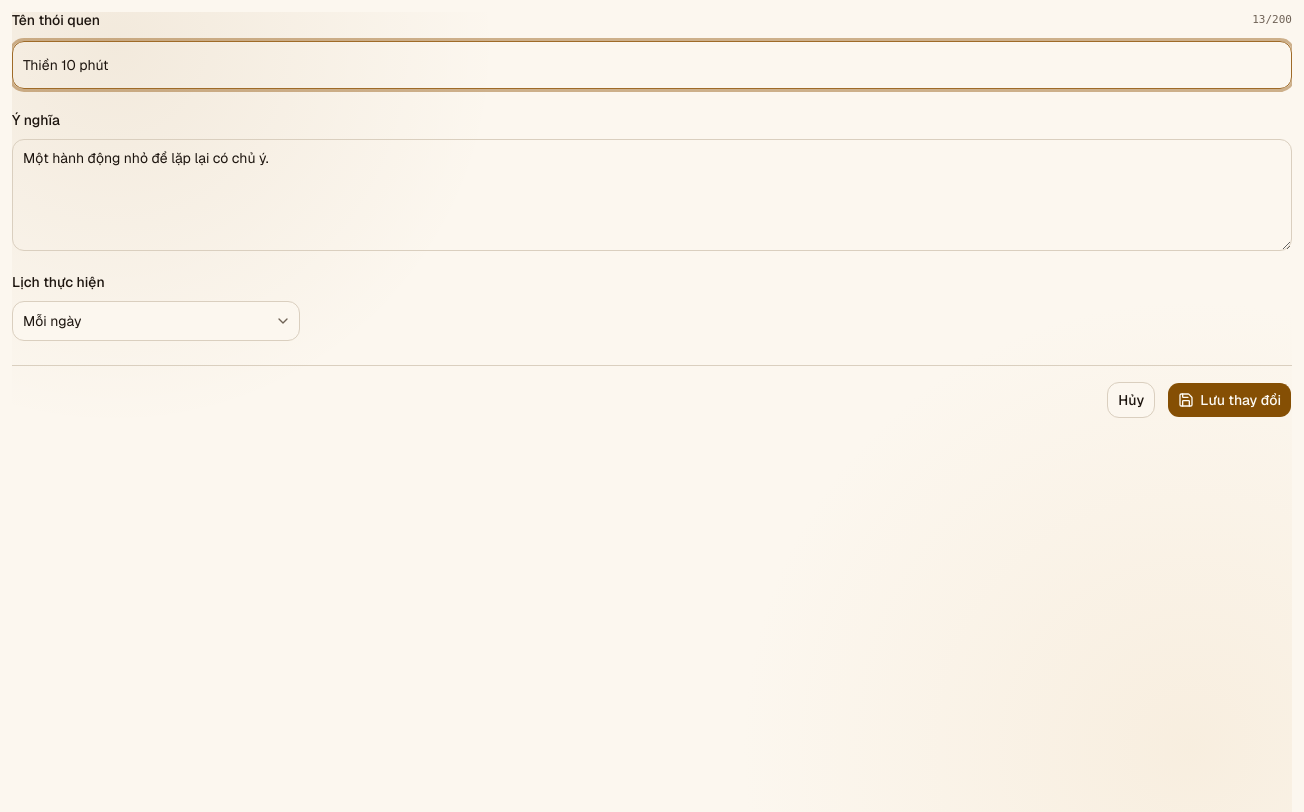
HabitEditor › keeps the draft on screen when the habit was archived elsewhere
Replace the text in the field labelled "Tên thói quen" with "Bản đang viết dở": [652, 64] box 12,40 -> 1292,88
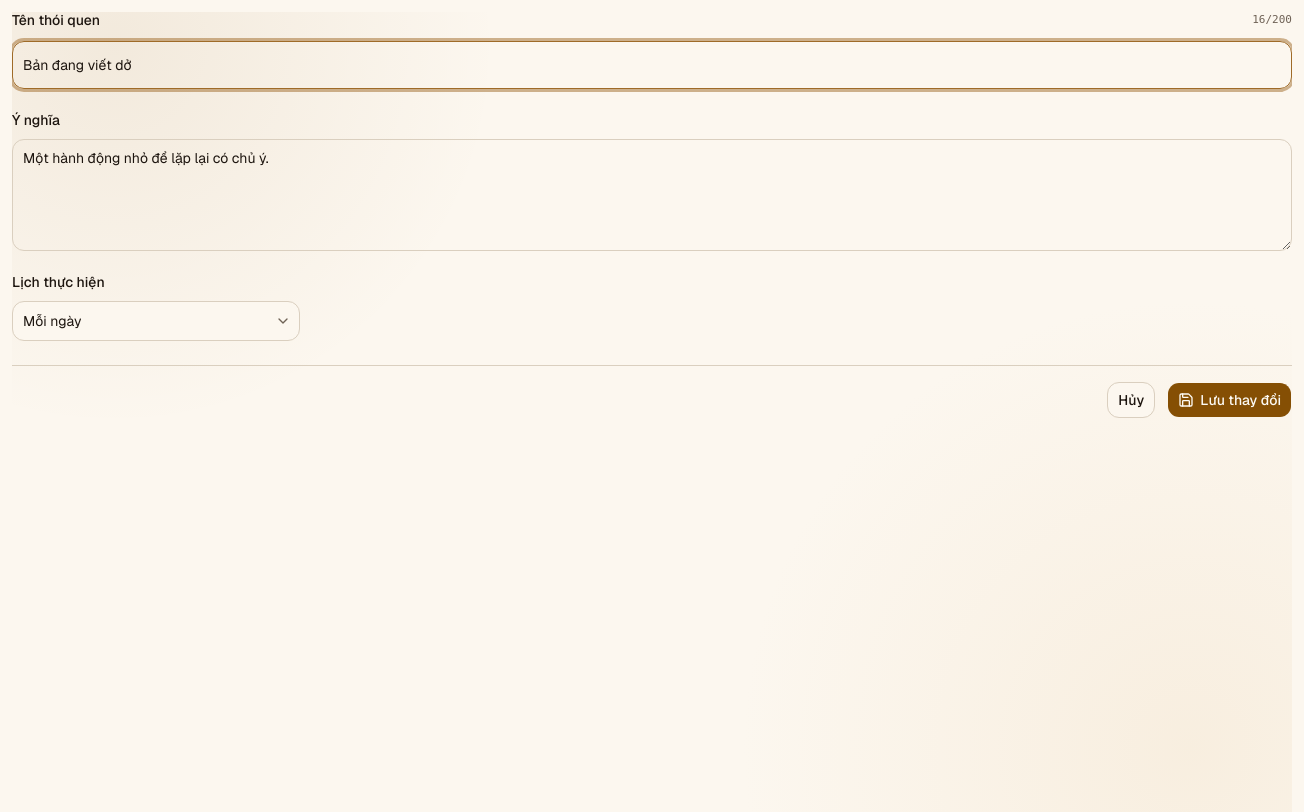
Click the button "Lưu thay đổi": [1230, 400] box 1167,382 -> 1292,418
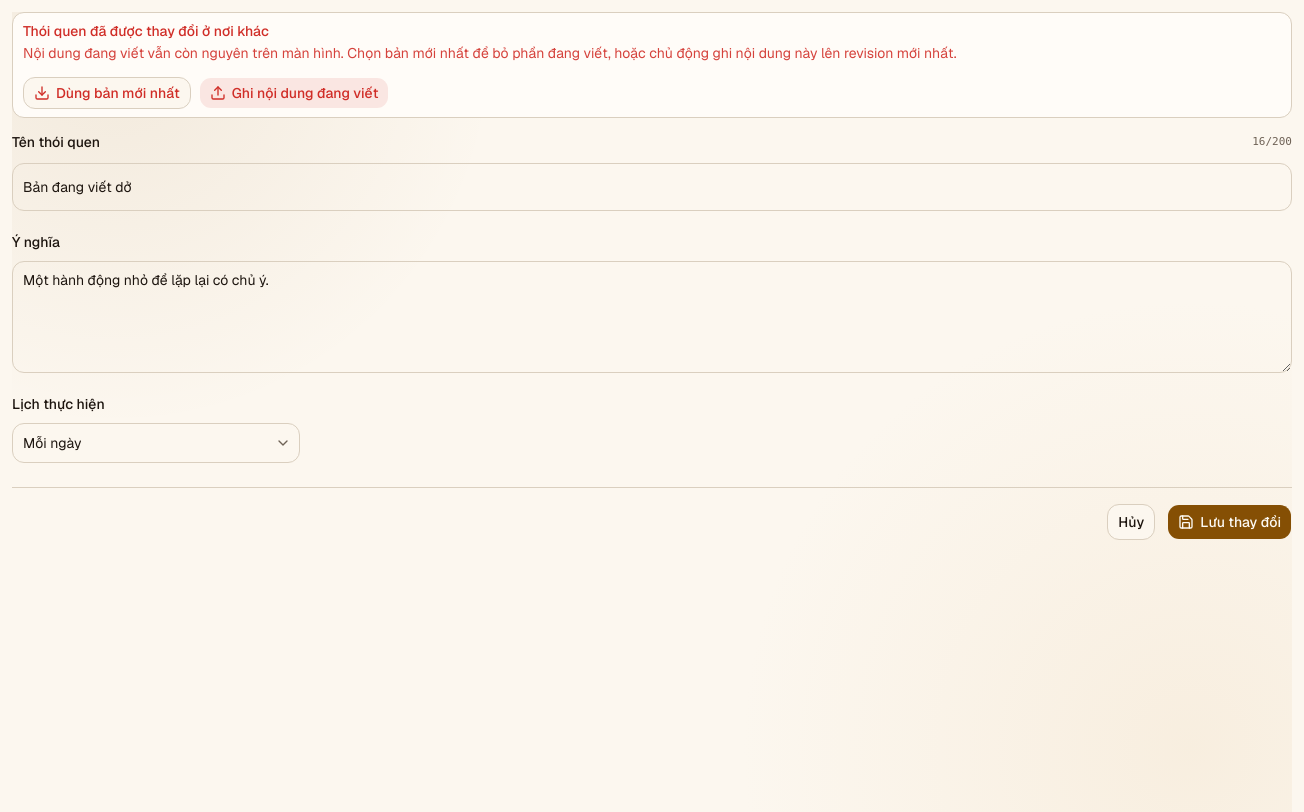
Result: the button "Ghi nội dung đang viết" is enabled
Click the button "Ghi nội dung đang viết": [294, 93] box 199,77 -> 389,109
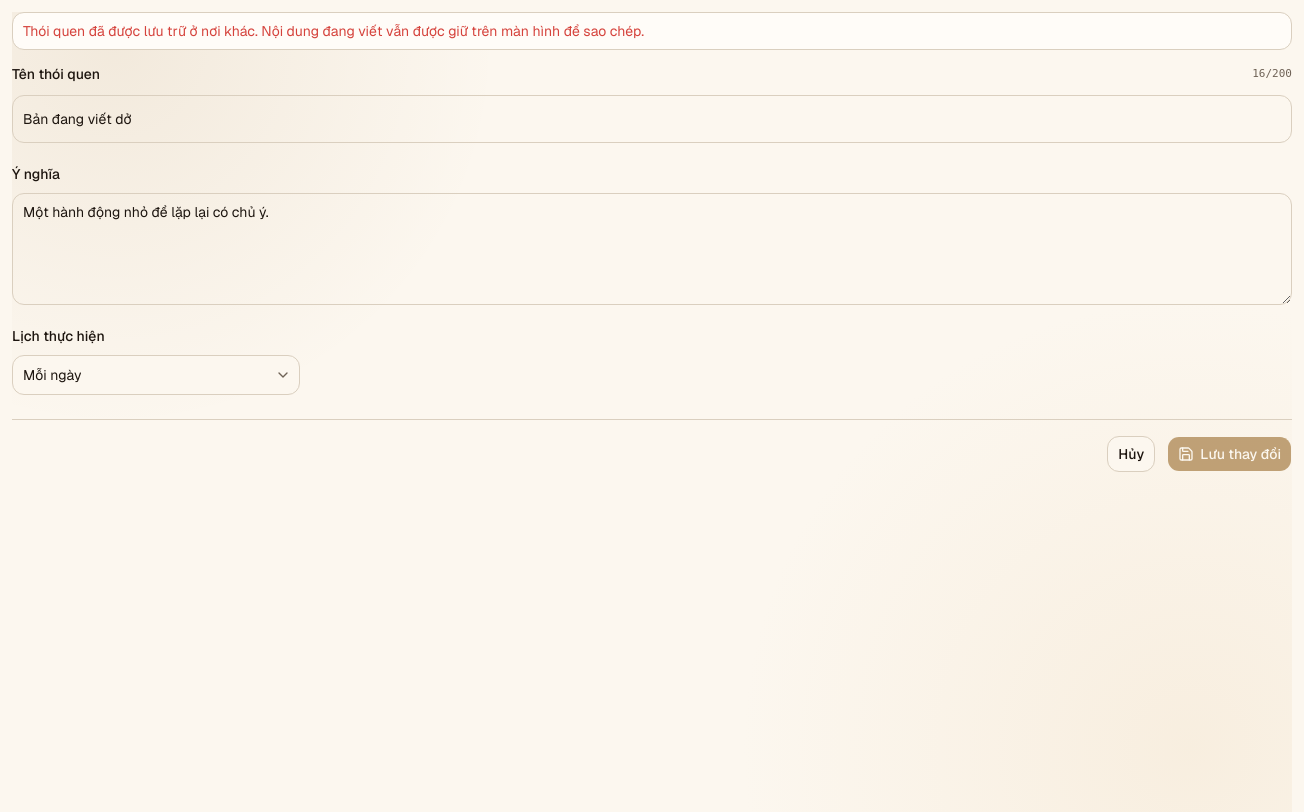
Result: the text "Thói quen đã được lưu trữ ở nơi khác. Nội dung đang viết vẫn được giữ trên màn hình để sao chép." is shown at 23,22 -> 644,40
